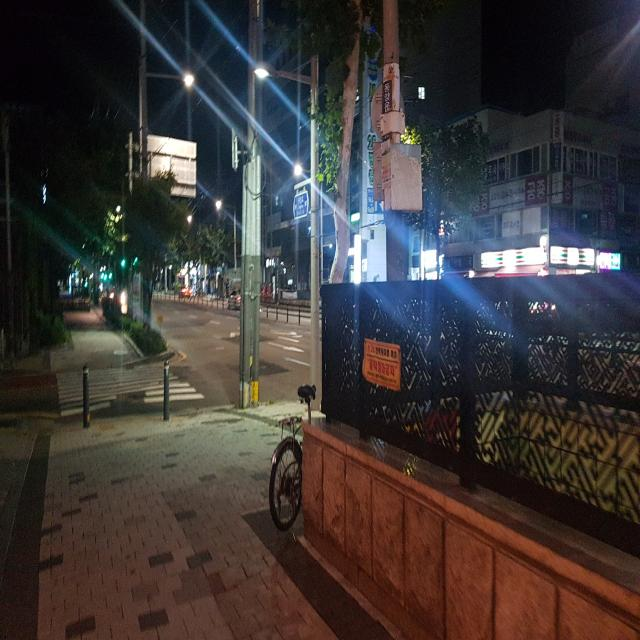횡단보도: (55, 362, 205, 418)
